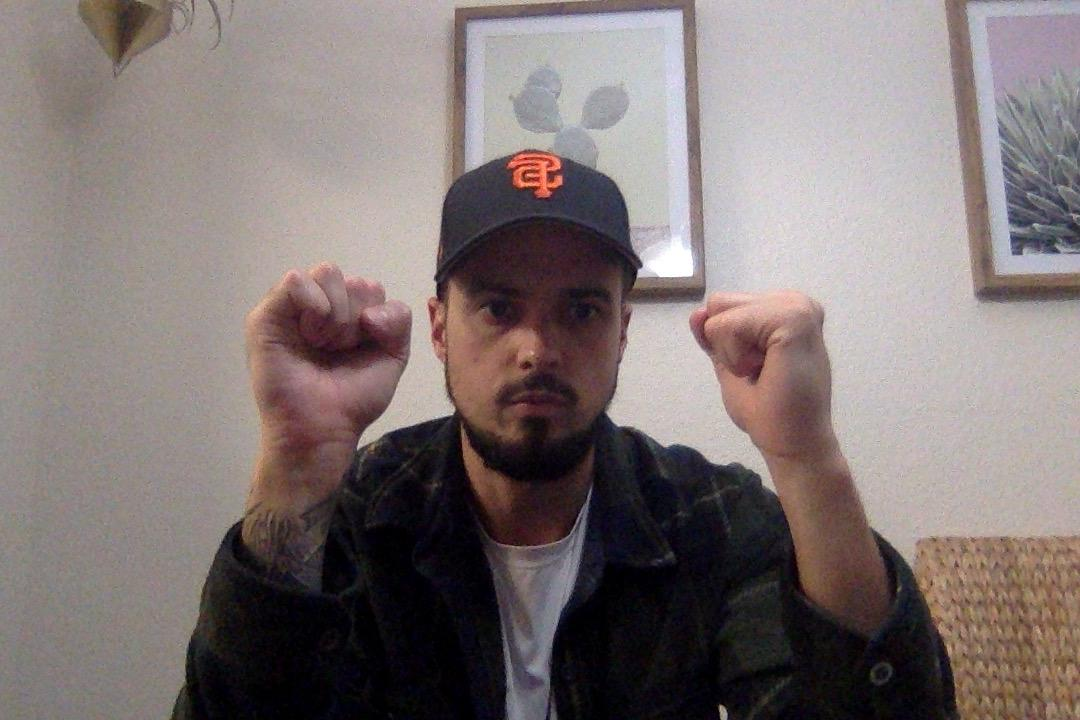Raised-Fist: (234, 263, 415, 500), (681, 278, 852, 466)
